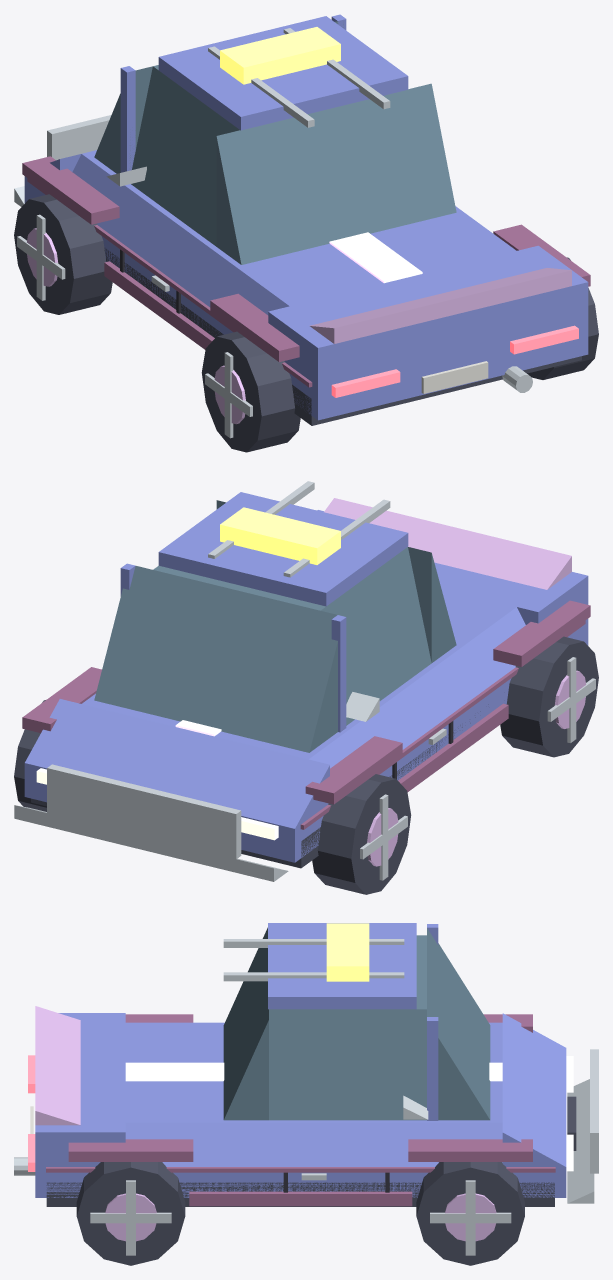
The model's file is metro_mini.glb.
3 views of the same model, one above another, from view 1: azimuth 30°, elevation 25°; view 2: azimuth 150°, elevation 25°; view 3: azimuth 270°, elevation 25° (orthographic). The views are drawn at different scales.
Visible parts, largest first — view 1: RearWindow.139, Tail.039, Roof.239, BodyUpper.036, CabinSideL.036, ShoulderL.036, Body.239, Wheel_RL.199, Wheel_FL.199, Ducktail.027, TaxiLight.012, Arch-1False.115 (+20 smaller); view 2: Windshield.139, Nose.036, Roof.239, Bullbar.019, CabinSideL.036, ShoulderL.036, Ducktail.027, Wheel_FL.199, Wheel_RL.199, Body.239, BodyUpper.036, TaxiLight.012 (+22 smaller); view 3: CabinSideR.036, ShoulderR.036, BodyUpper.036, Roof.239, Nose.036, Windshield.139, Tail.039, Body.239, Wheel_FR.199, Wheel_RR.199, RearWindow.139, Ducktail.027 (+21 smaller).
Boxes of the visible parts, box(x1,y1,x2,y2) form: RearWindow.139: box(216, 83, 456, 264); Tail.039: box(268, 245, 588, 386); Roof.239: box(158, 16, 408, 130); BodyUpper.036: box(81, 150, 516, 305); CabinSideL.036: box(131, 66, 239, 246); ShoulderL.036: box(72, 154, 289, 315); Body.239: box(24, 176, 588, 420); Wheel_RL.199: box(201, 331, 300, 452); Wheel_FL.199: box(14, 194, 112, 314); Ducktail.027: box(309, 268, 571, 343); TaxiLight.012: box(220, 27, 340, 84); Arch-1False.115: box(22, 156, 119, 224); Windshield.139: box(94, 566, 337, 752); Nose.036: box(25, 699, 329, 828); Roof.239: box(158, 492, 408, 606); Bullbar.019: box(47, 764, 241, 859); CabinSideL.036: box(321, 547, 431, 725); ShoulderL.036: box(309, 607, 525, 768); Ducktail.027: box(324, 498, 571, 589); Wheel_FL.199: box(312, 774, 411, 894); Wheel_RL.199: box(500, 636, 598, 757); Body.239: box(24, 619, 588, 862); BodyUpper.036: box(82, 588, 516, 759); TaxiLight.012: box(220, 507, 340, 564); CabinSideR.036: box(269, 1009, 426, 1120); ShoulderR.036: box(125, 1122, 502, 1166); BodyUpper.036: box(125, 1022, 502, 1122); Roof.239: box(268, 923, 416, 1009); Nose.036: box(502, 1013, 566, 1166); Windshield.139: box(427, 928, 490, 1120); Tail.039: box(35, 1013, 125, 1166); Body.239: box(35, 1167, 566, 1197); Wheel_FR.199: box(416, 1162, 524, 1265); Wheel_RR.199: box(76, 1162, 185, 1265); RearWindow.139: box(223, 927, 268, 1120); Ducktail.027: box(35, 1006, 80, 1125).
Size of the model in its own units: 3.2 by 2.41 by 5.18.
